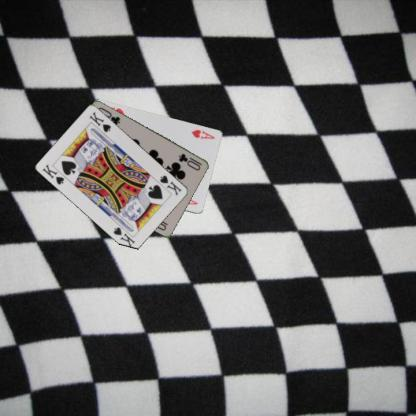10c: (176, 150, 204, 172)
Ah: (189, 127, 216, 140)
Ks: (40, 162, 66, 186), (158, 173, 183, 196)
